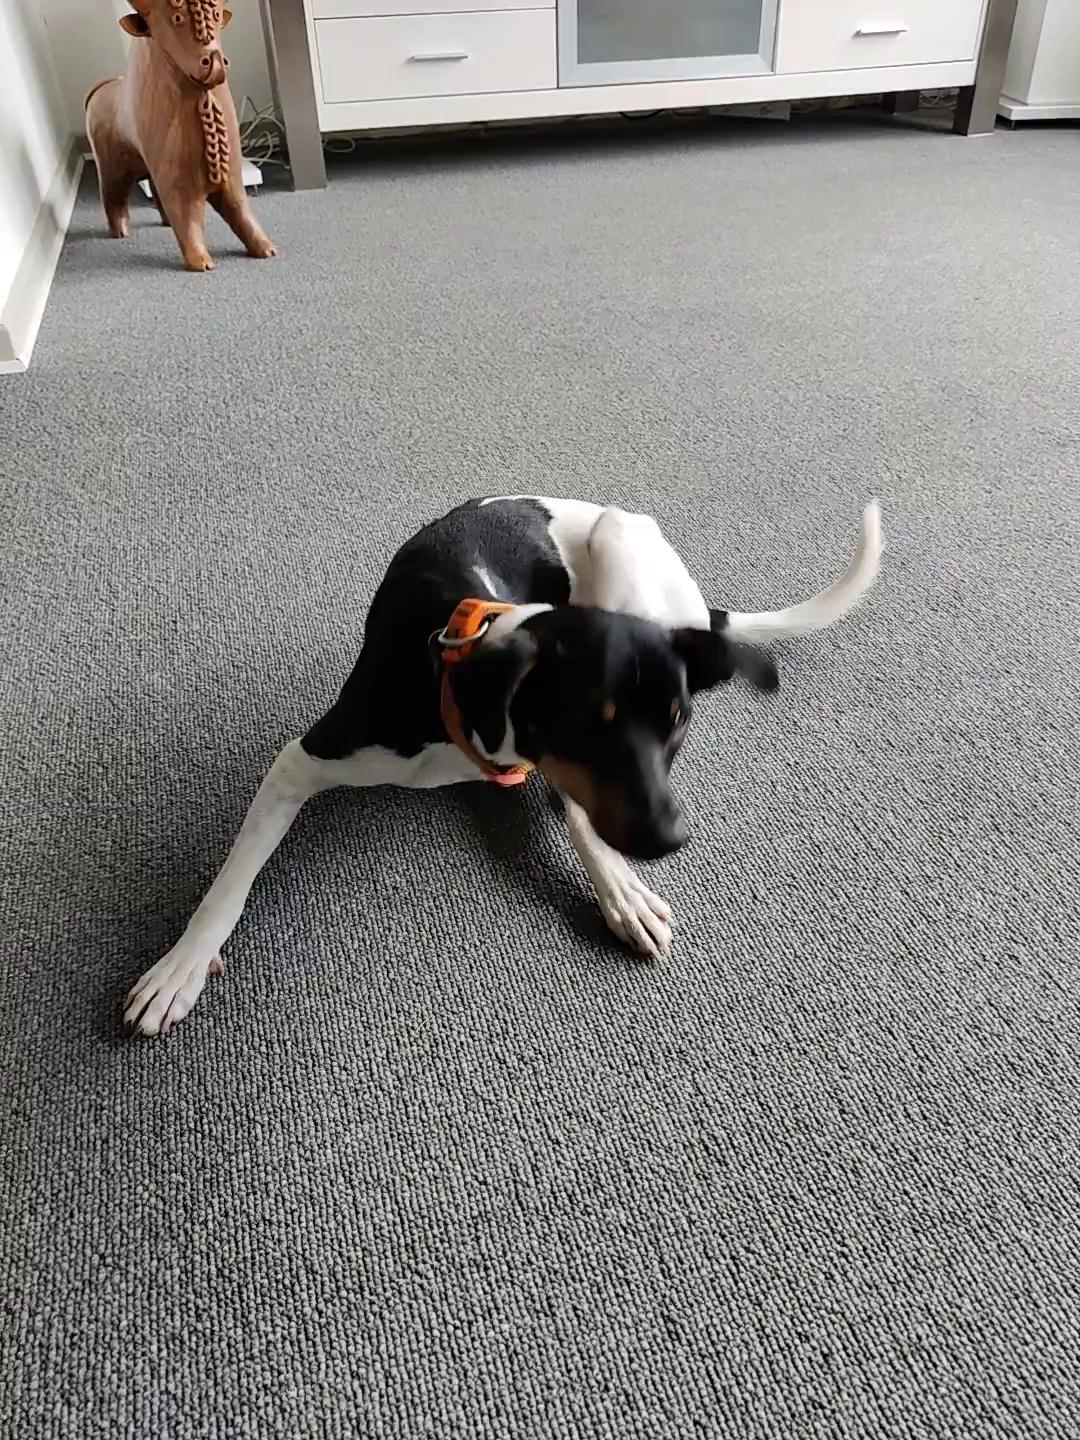Dog: (112, 468, 900, 1041)
